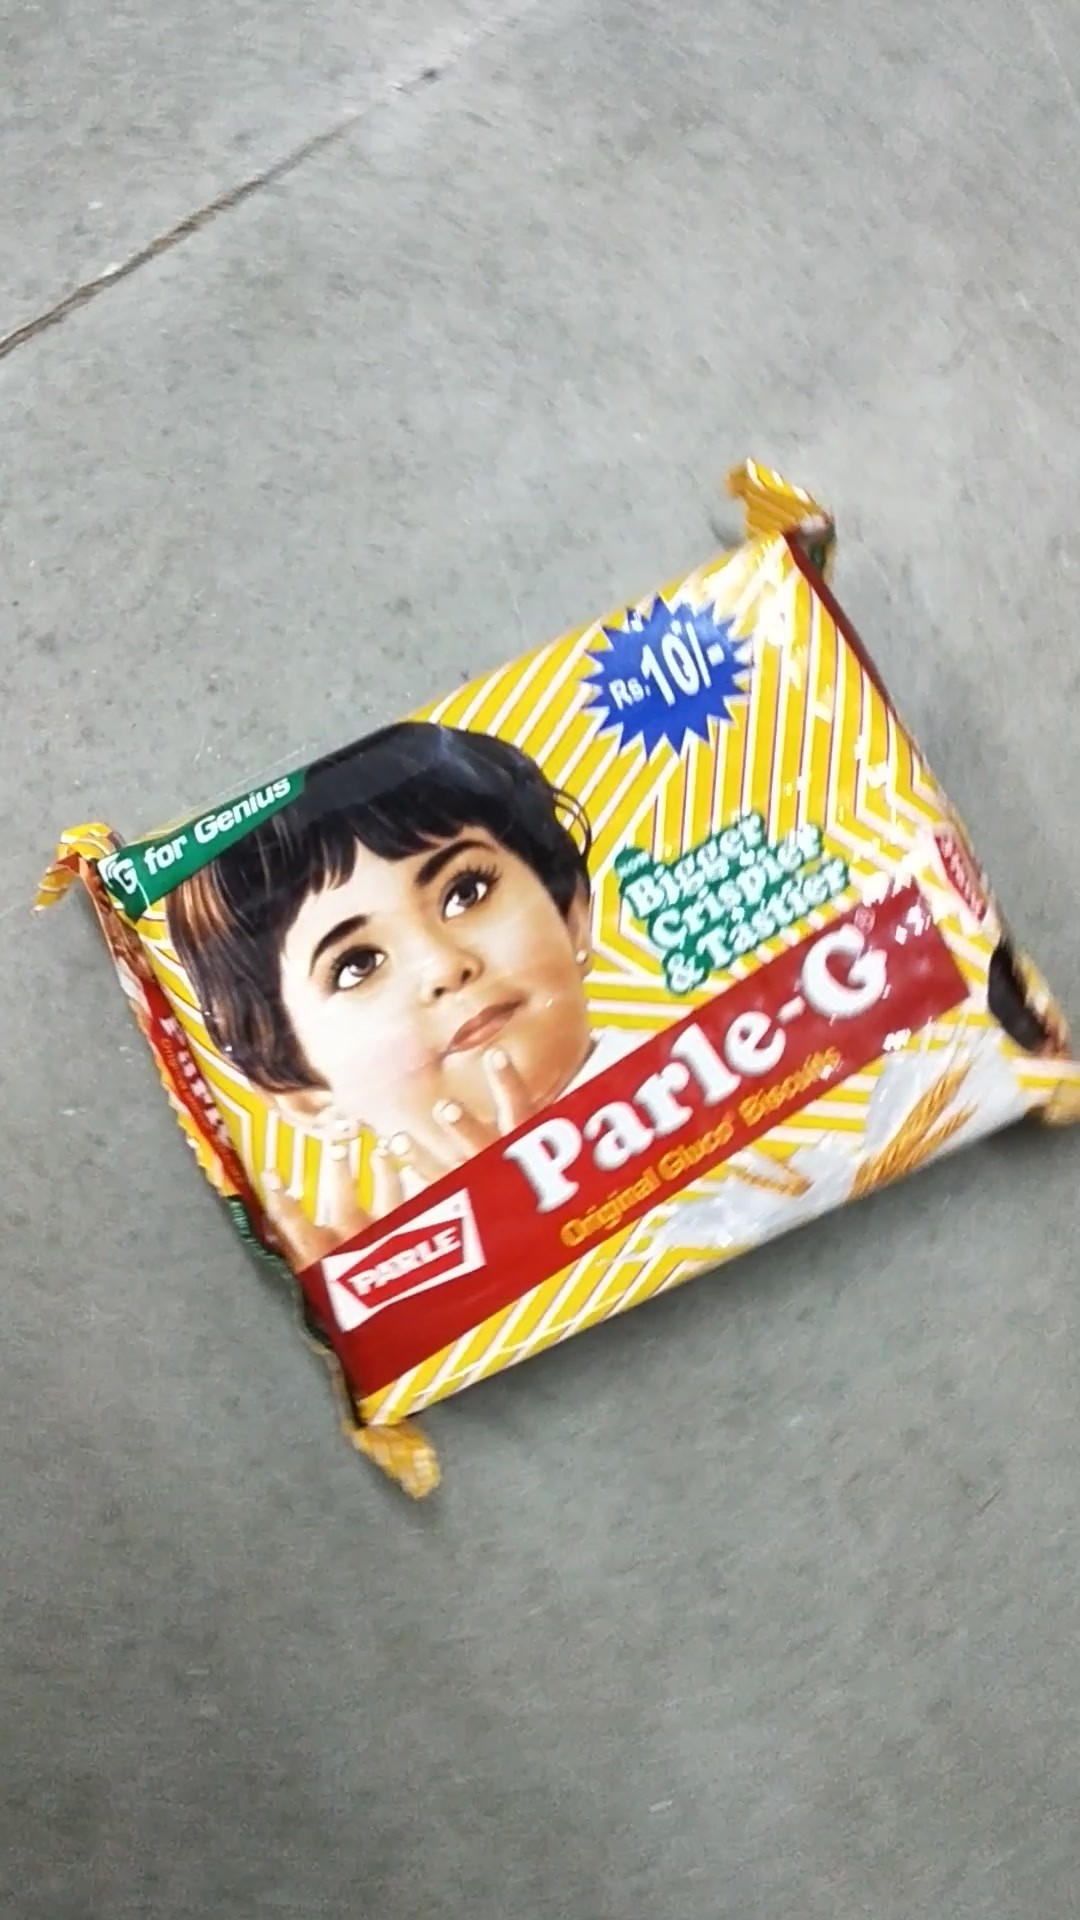parle-g: (131, 629, 880, 1267)
